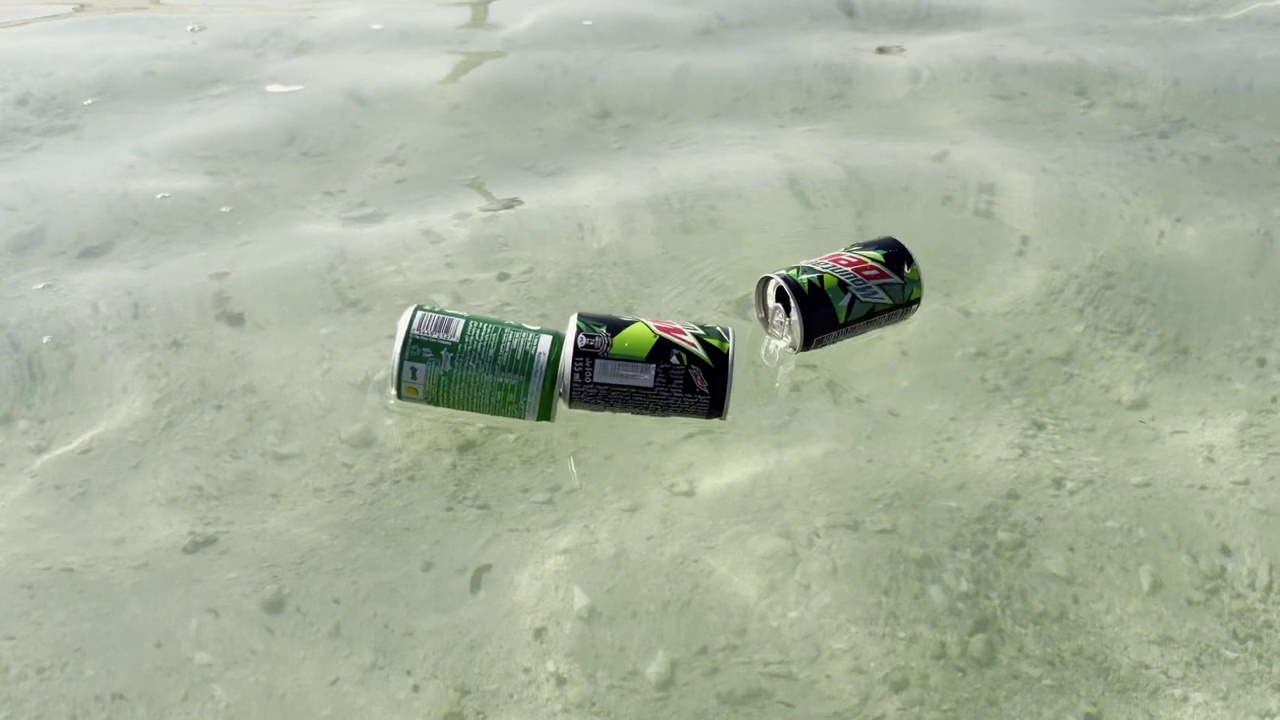debris: (379, 296, 577, 438), (745, 222, 933, 364), (545, 301, 743, 432)
